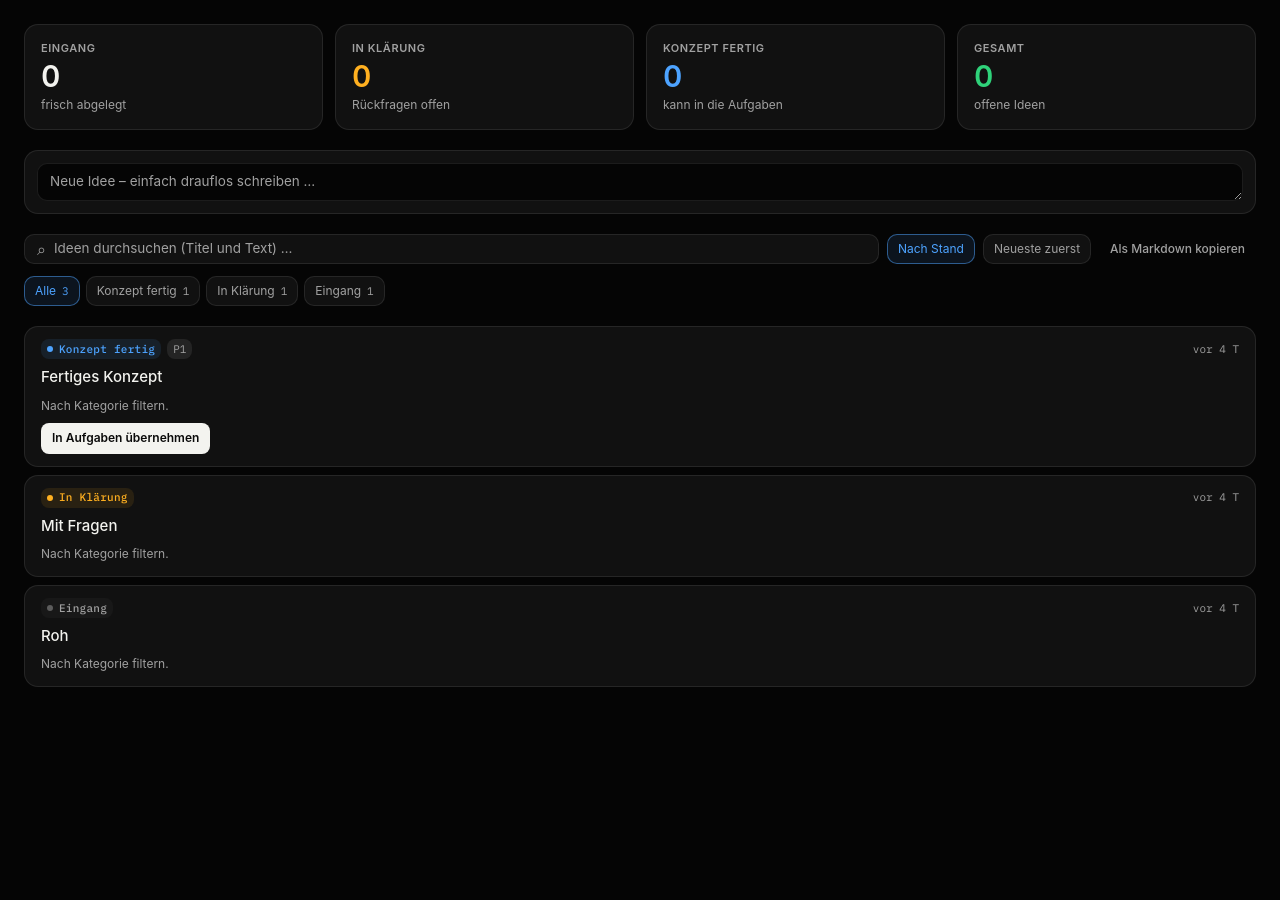
it: Ideen-Liste › „In Aufgaben übernehmen“ nur bei fertigem Konzept und ruft promote
Click the button "In Aufgaben übernehmen": (126, 438) x1=41 y1=423 x2=210 y2=454
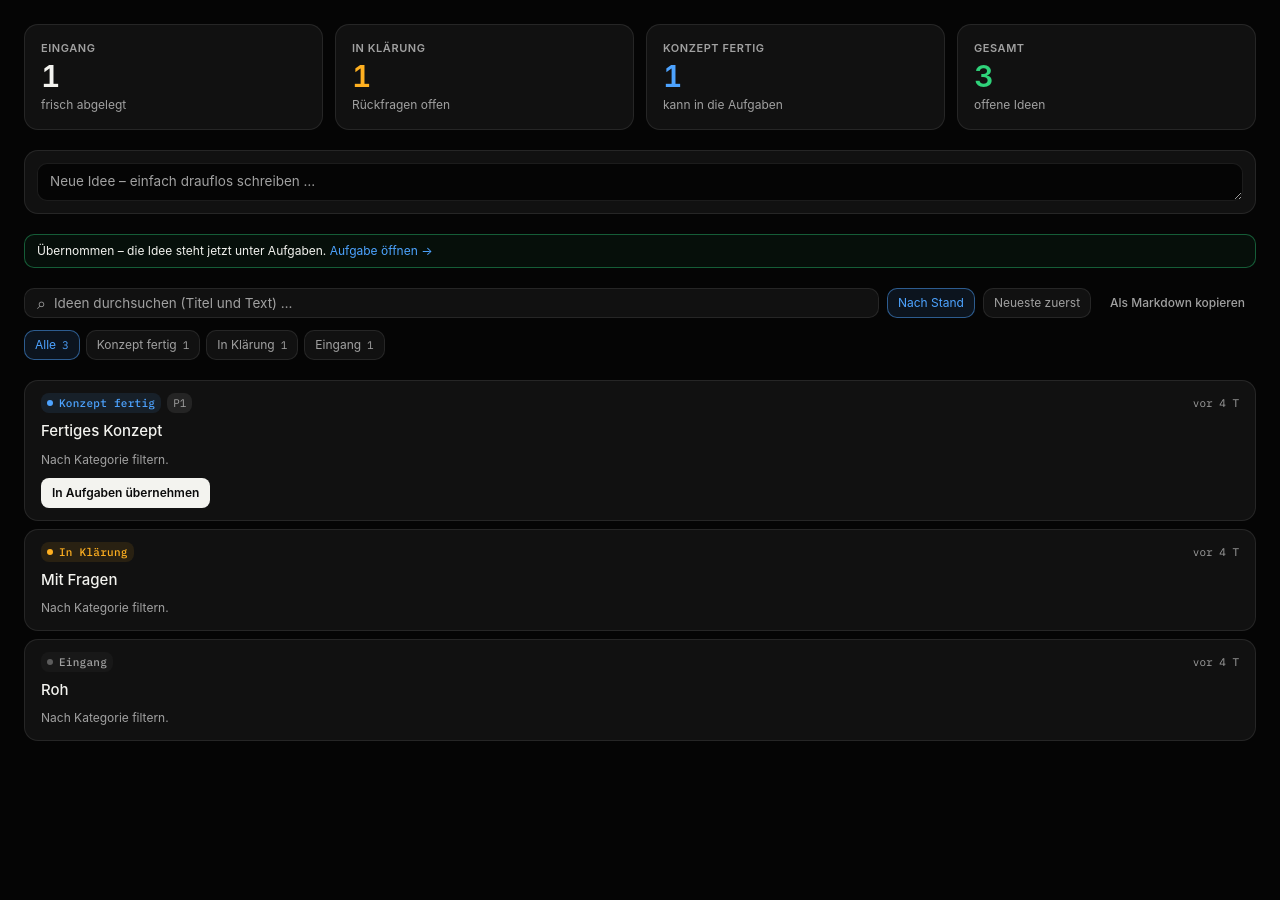
expect the element with test id "idea-promoted" shows "Übernommen": met, box x1=37 y1=243 x2=326 y2=258
